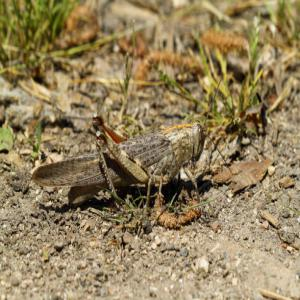locust: (32, 75, 223, 214)
